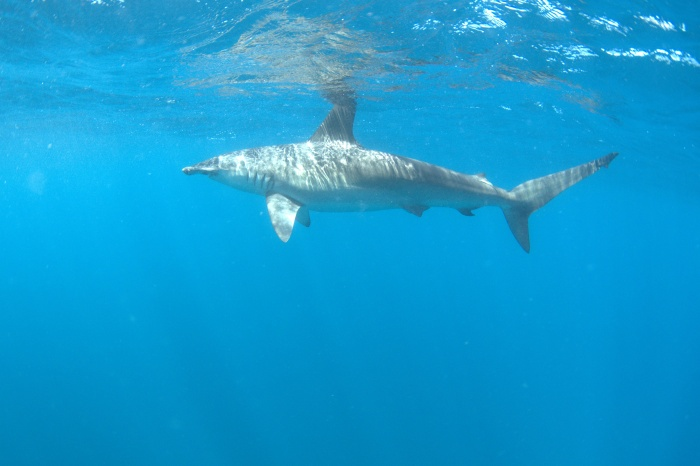Hammer: (154, 84, 626, 266)
